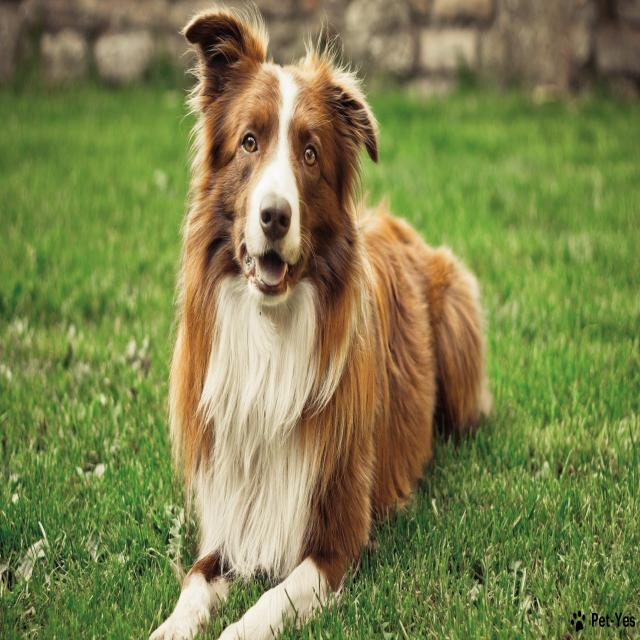Dog: (166, 6, 492, 530)
